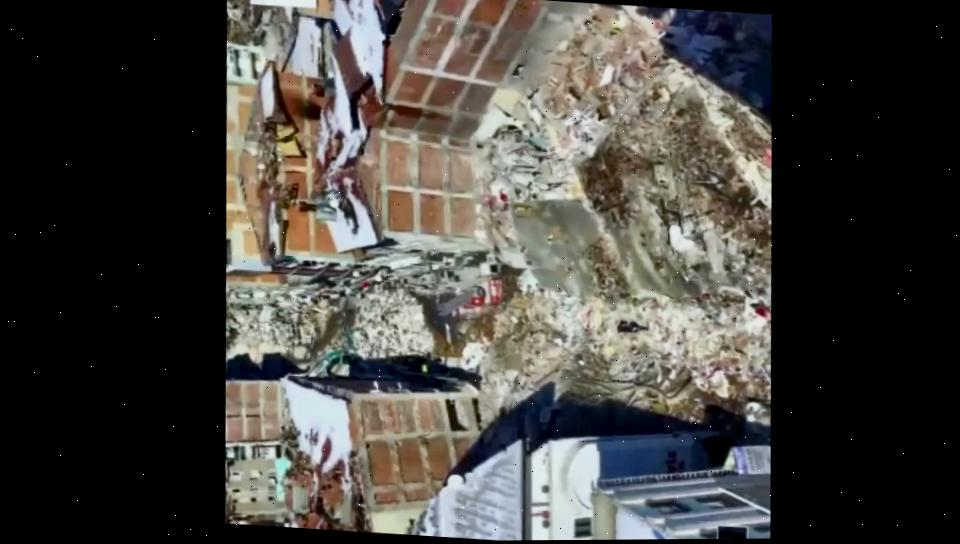kapali: (454, 228, 771, 413), (335, 273, 449, 360), (236, 302, 329, 370)
